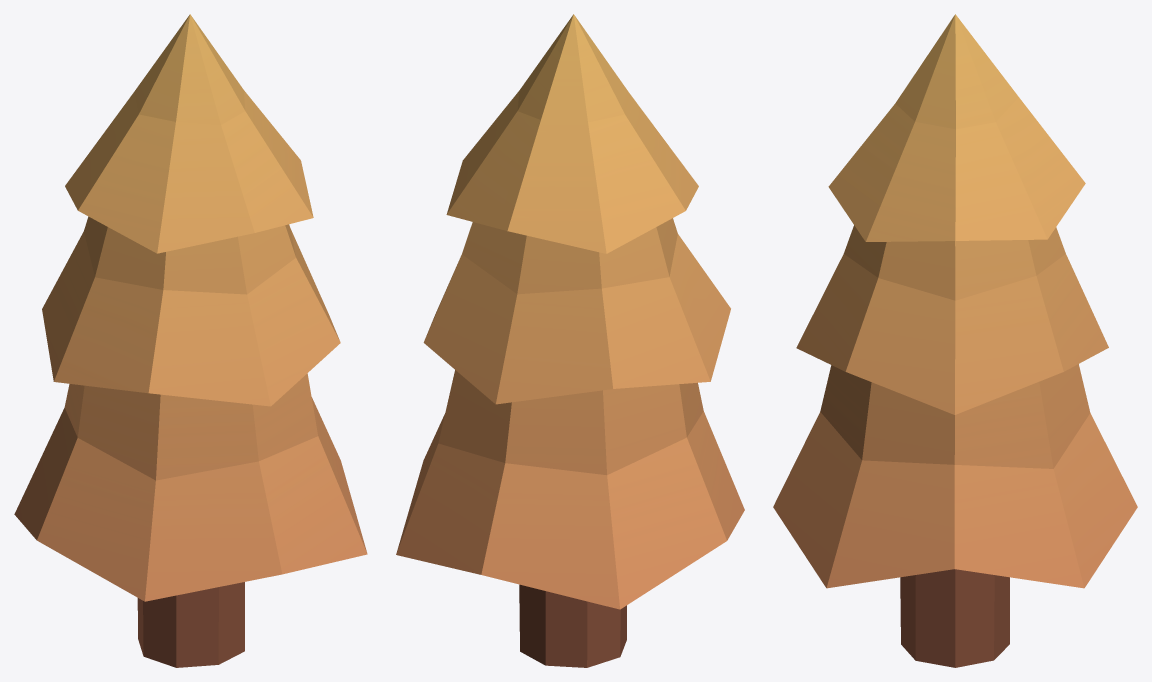
The model's file is Tree_01_gradient_yellow.fbx.
3 renders of one model, left to right at view 1: azimuth 30°, elevation 25°; view 2: azimuth 150°, elevation 25°; view 3: azimuth 270°, elevation 25°, orthographic.
Visible parts, largest first — view 1: Tree_01_gradient_yellow; view 2: Tree_01_gradient_yellow; view 3: Tree_01_gradient_yellow.
Part boxes in pixels (bbox=[...]): Tree_01_gradient_yellow: bbox=[14, 14, 367, 667]; Tree_01_gradient_yellow: bbox=[396, 14, 744, 667]; Tree_01_gradient_yellow: bbox=[773, 14, 1137, 667].
Bounding box in the file's own units: 83.22 × 165 × 86.78.
